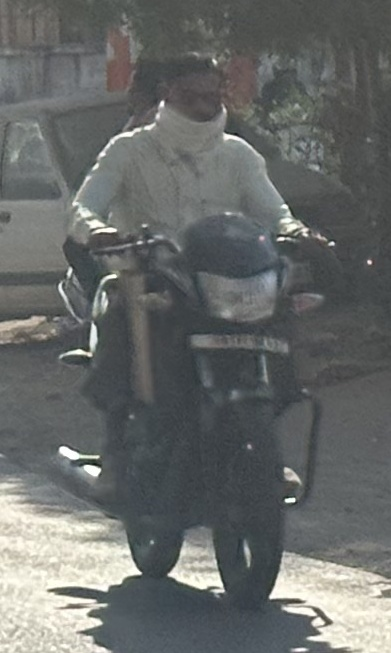BikeWithRider: (47, 47, 341, 601)
NoHelmet: (154, 51, 235, 151)
